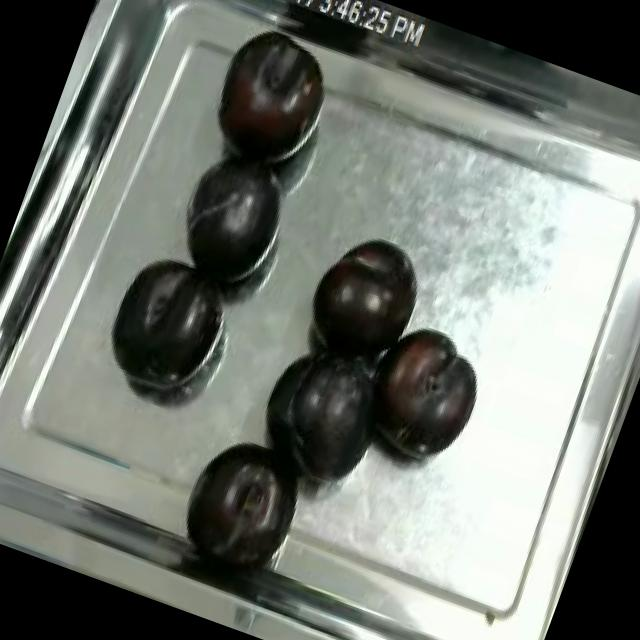Fruit: (88, 234, 242, 406), (192, 11, 344, 182), (257, 336, 407, 500), (162, 142, 302, 304), (170, 424, 312, 581), (356, 314, 498, 470), (293, 224, 432, 376)
